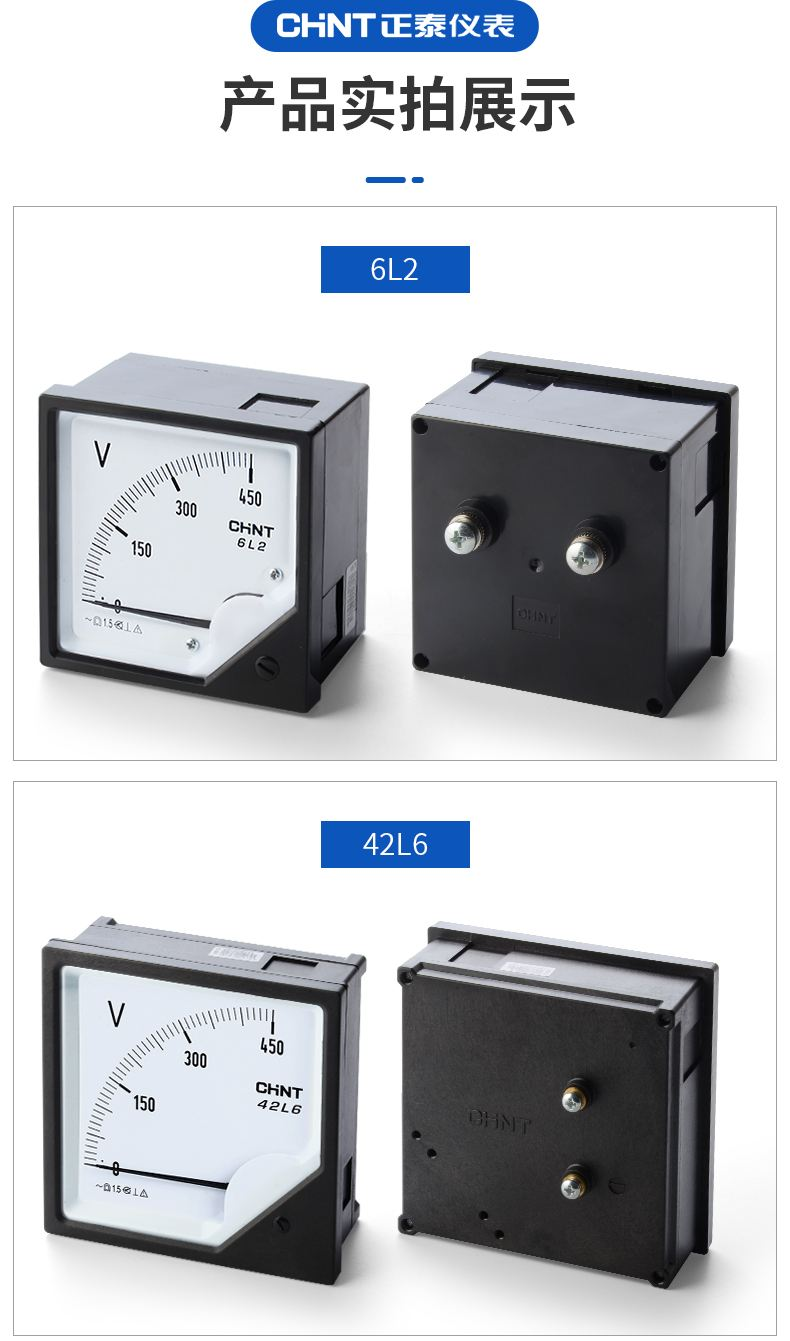pointer: (51, 953, 331, 1252), (50, 401, 287, 682)
